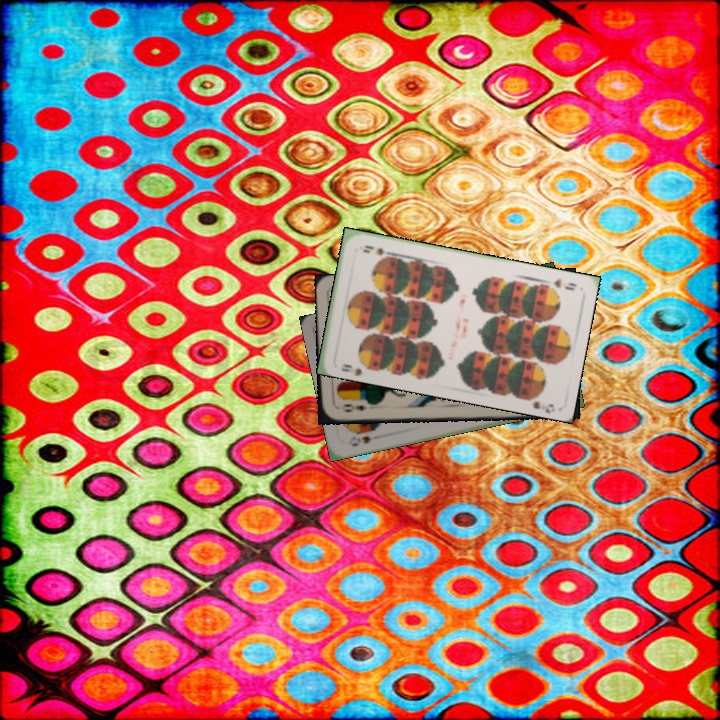EO: (339, 400, 369, 414)
S9: (548, 274, 579, 293), (339, 357, 374, 373)
SO: (348, 431, 382, 449)
